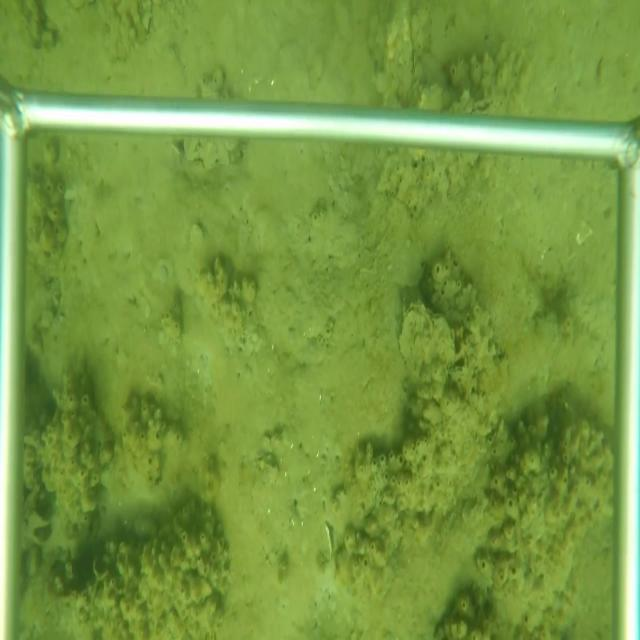Oyster-Closed: (397, 299, 457, 383), (379, 1, 421, 108)
Oyster-Indeterminate: (321, 522, 336, 560)
